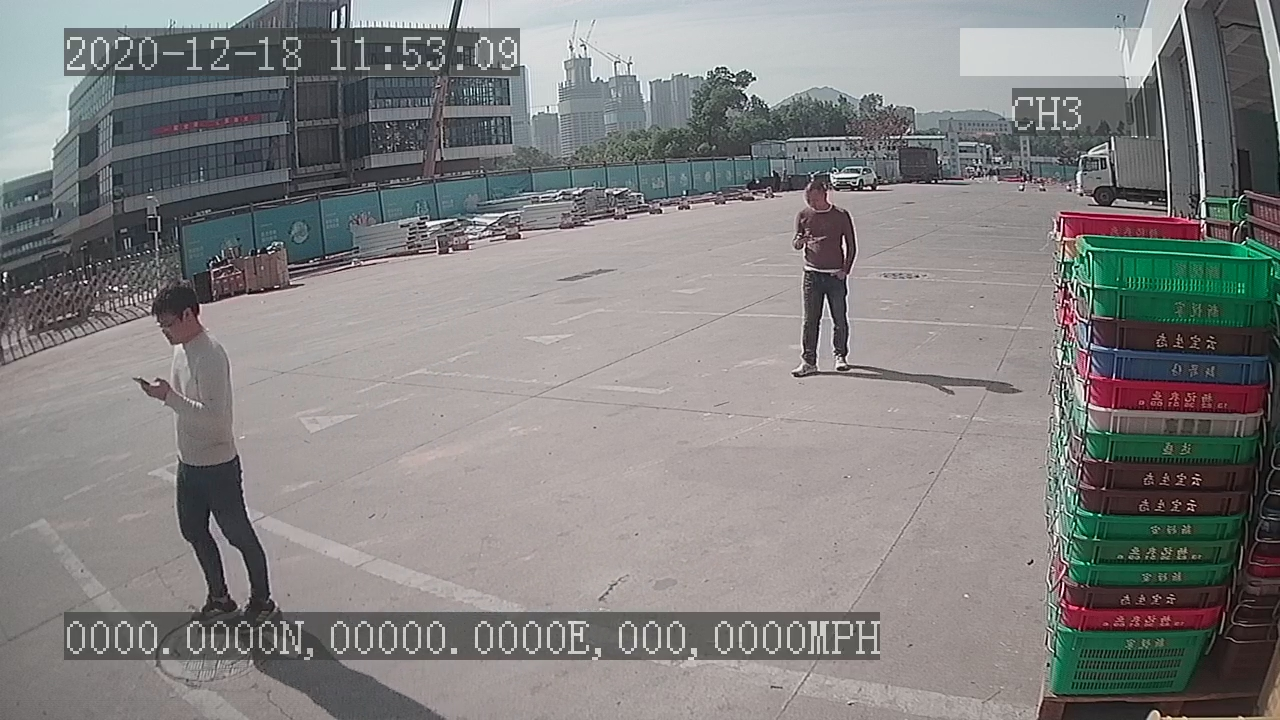person: (777, 176, 863, 381)
